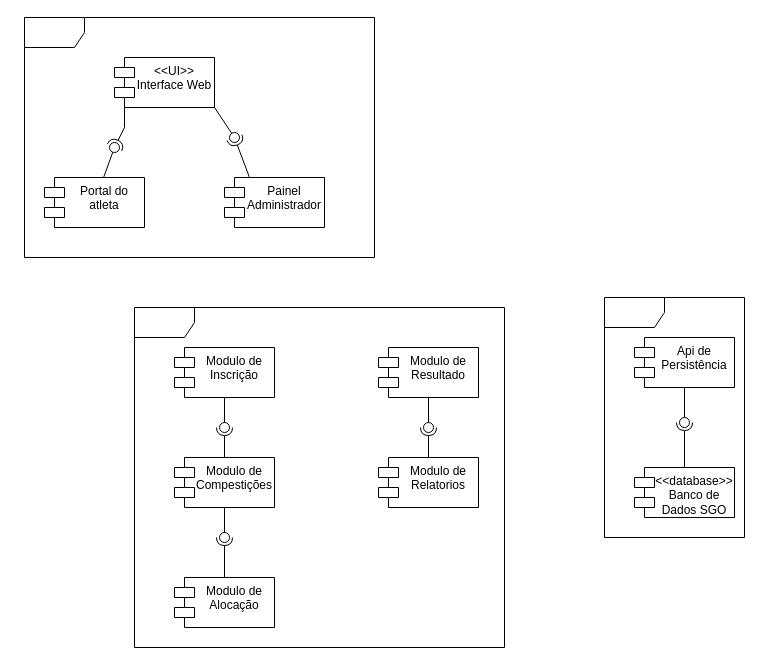
This 762x665 diagram has some shape labels left out. Here are the shapes that lost their labels. From the top down, the box of each, then its label:
(24, 16, 374, 258): Camada de Apresentação
(604, 296, 744, 538): Camada de Dados
(134, 306, 504, 648): Aplicação
